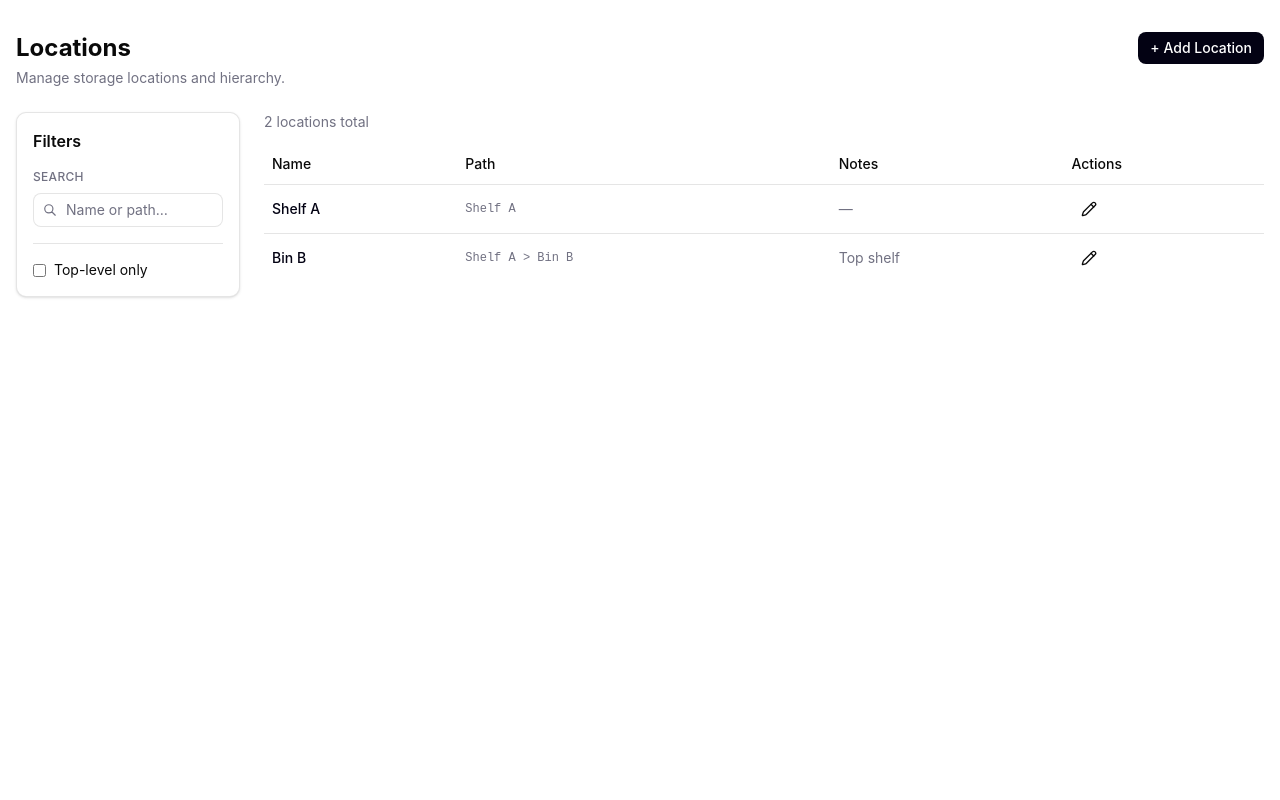
Scenario: LocationsPage — Add Location dialog › displays an API error message when POST fails
Click the button "+ Add Location".
click(1201, 48)  # box [1138,32,1264,64]
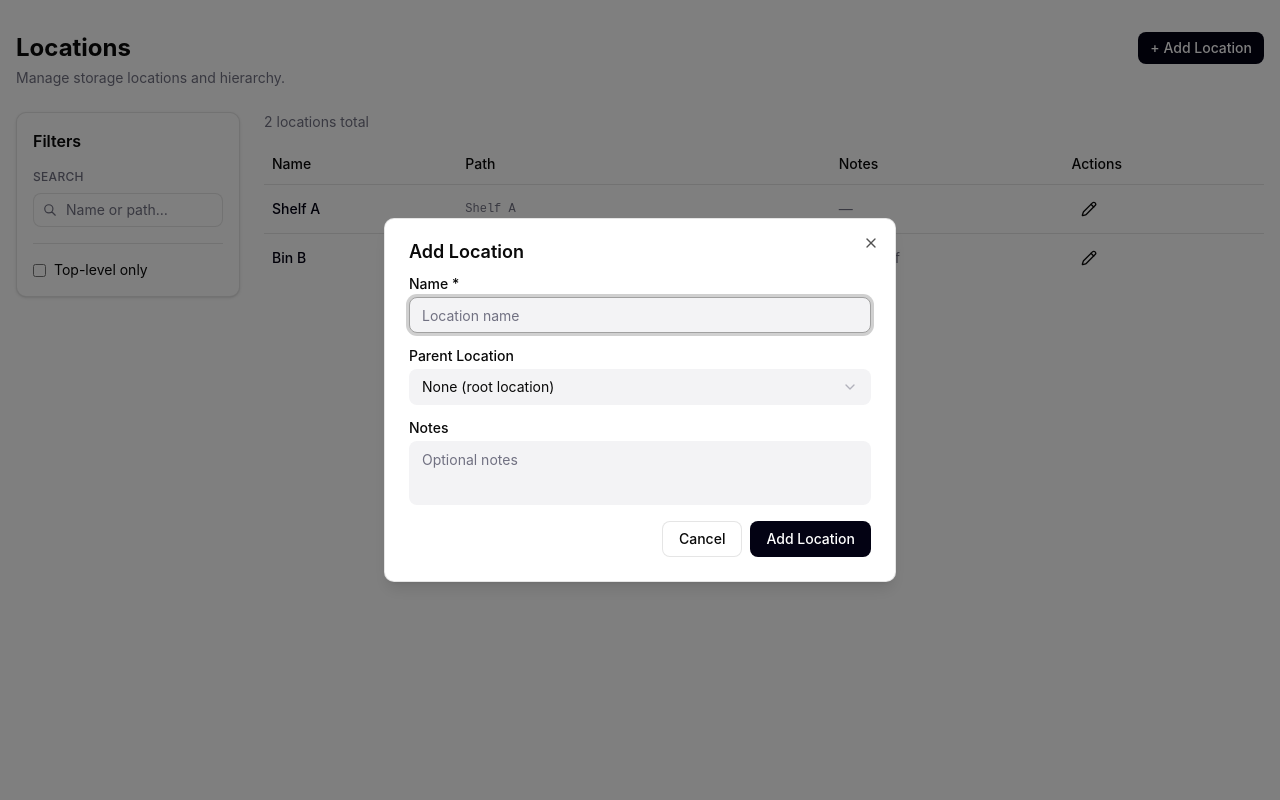
Result: the dialog is shown at [384,218,896,582]
Type "New Room" into the field labelled "Name *".
click(640, 315); type("New Room")  # box [409,297,871,333]
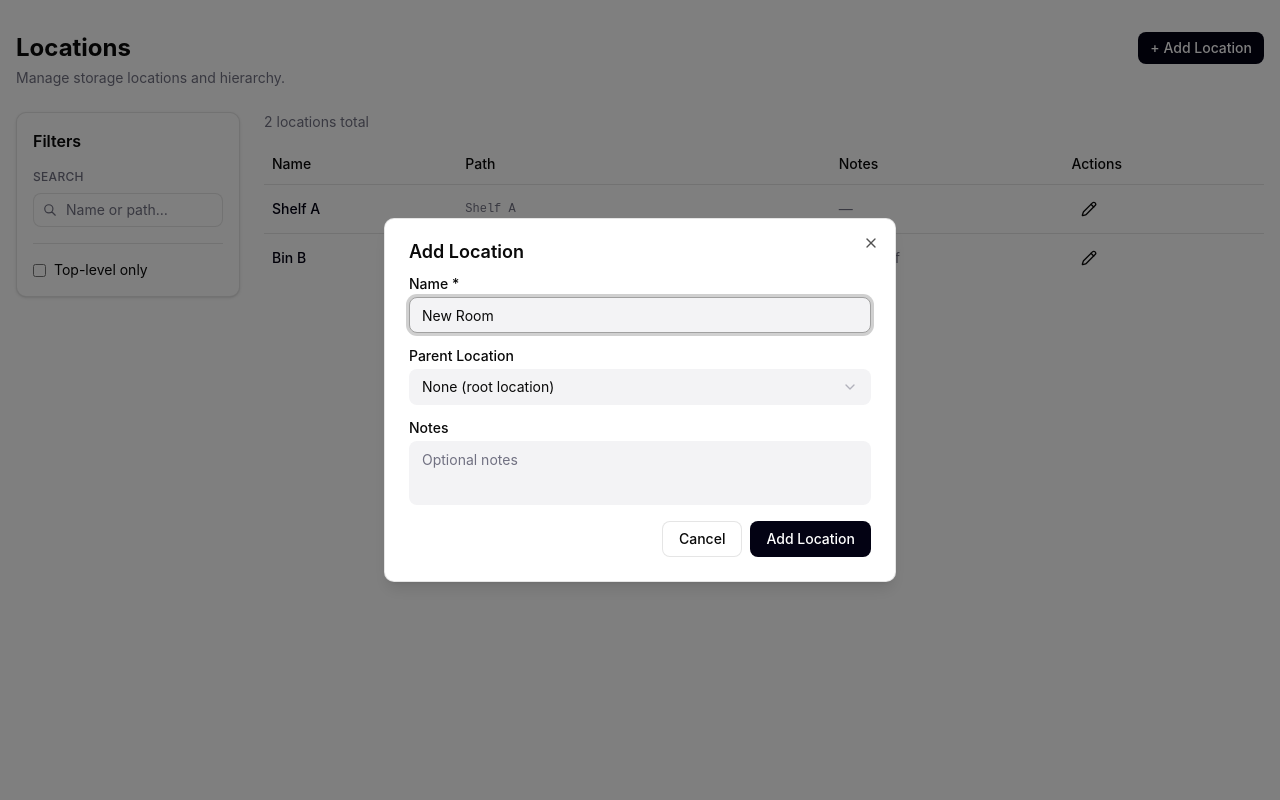
Click the button "Add Location".
click(811, 539)  # box [750,521,871,557]
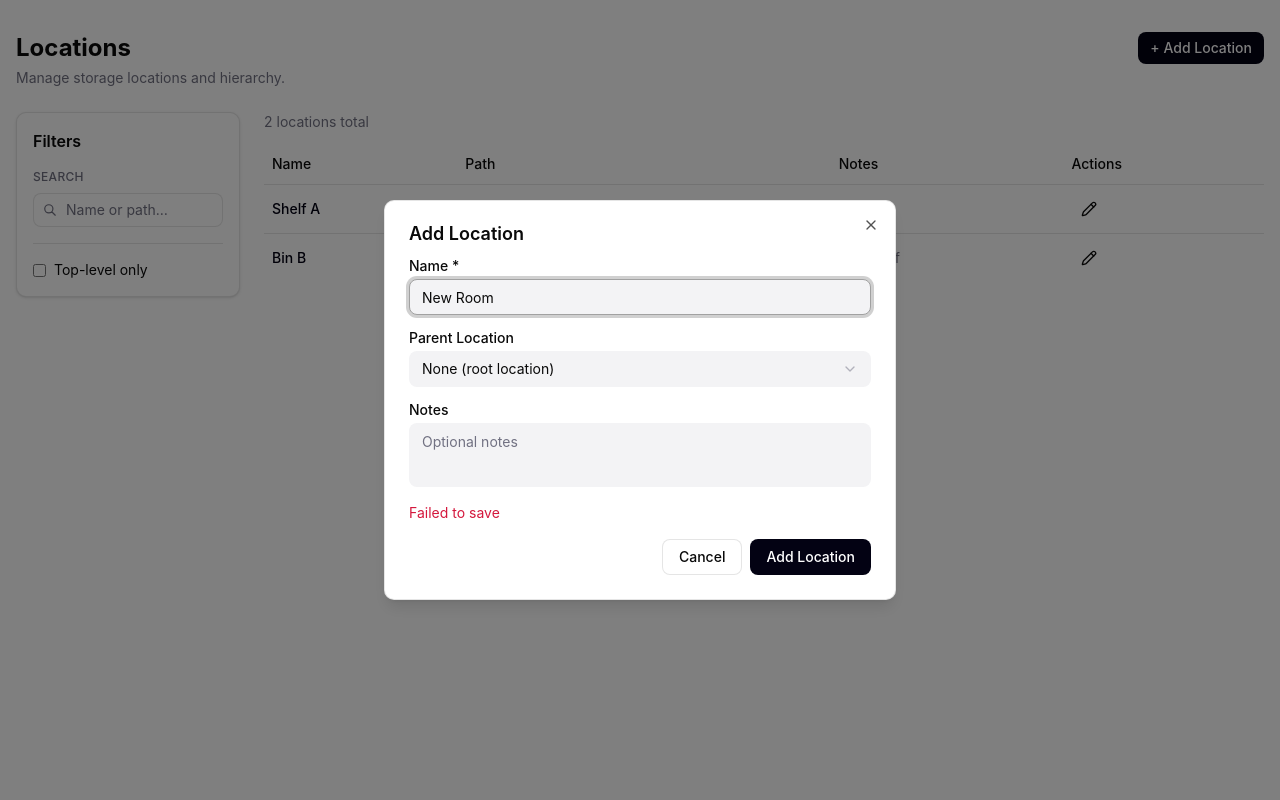
Result: the dialog is shown at [384,200,896,600]
Result: the text "Failed to save" is shown at [409,504,500,521]
